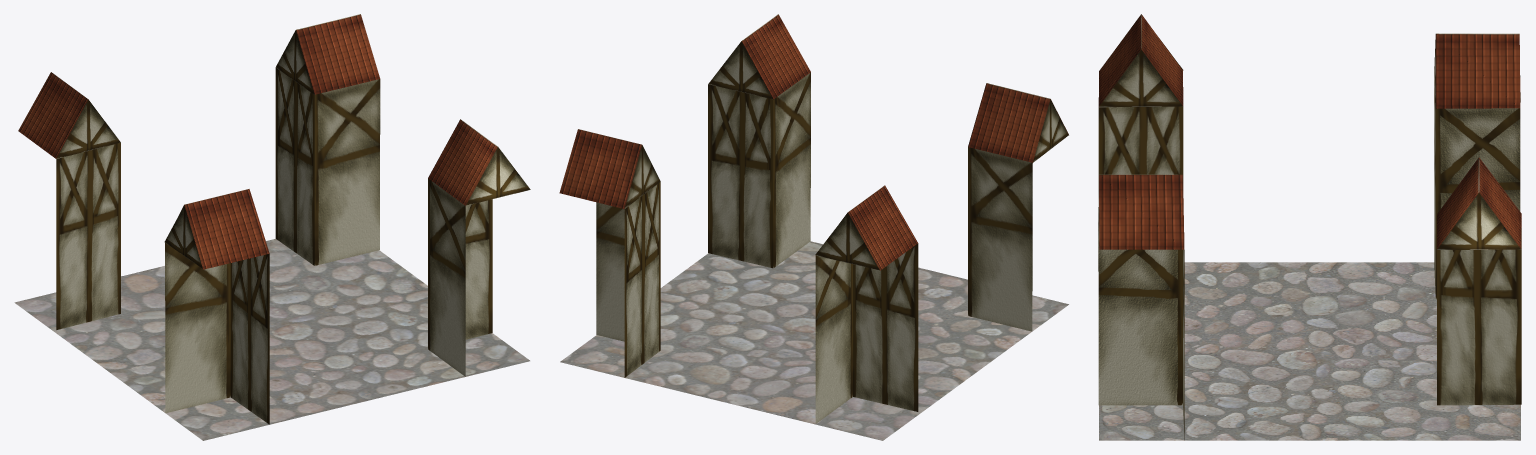
The model's file is 3-5_Four_Edges_V1.fbx.
3 renders of one model, left to right at view 1: azimuth 30°, elevation 25°; view 2: azimuth 150°, elevation 25°; view 3: azimuth 270°, elevation 25°, orthographic. The views are drawn at different scales.
Parts seen in each view (by area): view 1: Four_edges_v1; view 2: Four_edges_v1; view 3: Four_edges_v1.
Boxes of the visible parts, <box> form: Four_edges_v1: <box>14,14,530,440</box>; Four_edges_v1: <box>559,14,1068,440</box>; Four_edges_v1: <box>1098,14,1521,440</box>.
Bounding box in the file's own units: 101 × 64.88 × 100.
2 materials, 2 textured.
